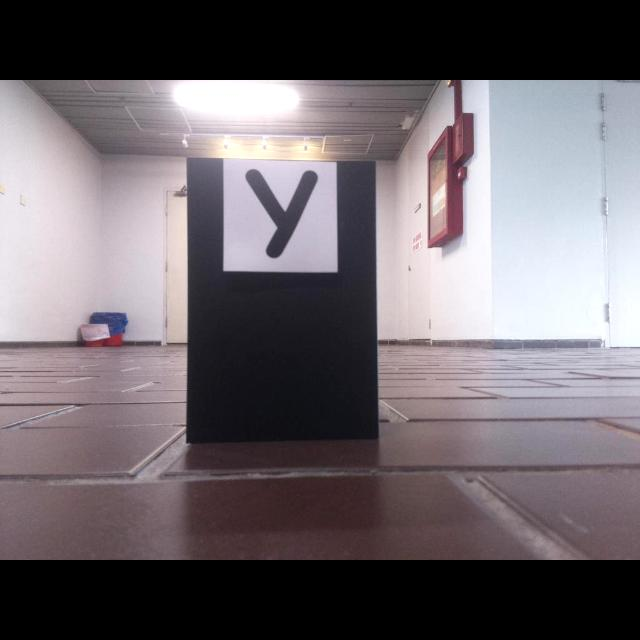Y: (246, 170, 318, 258)
